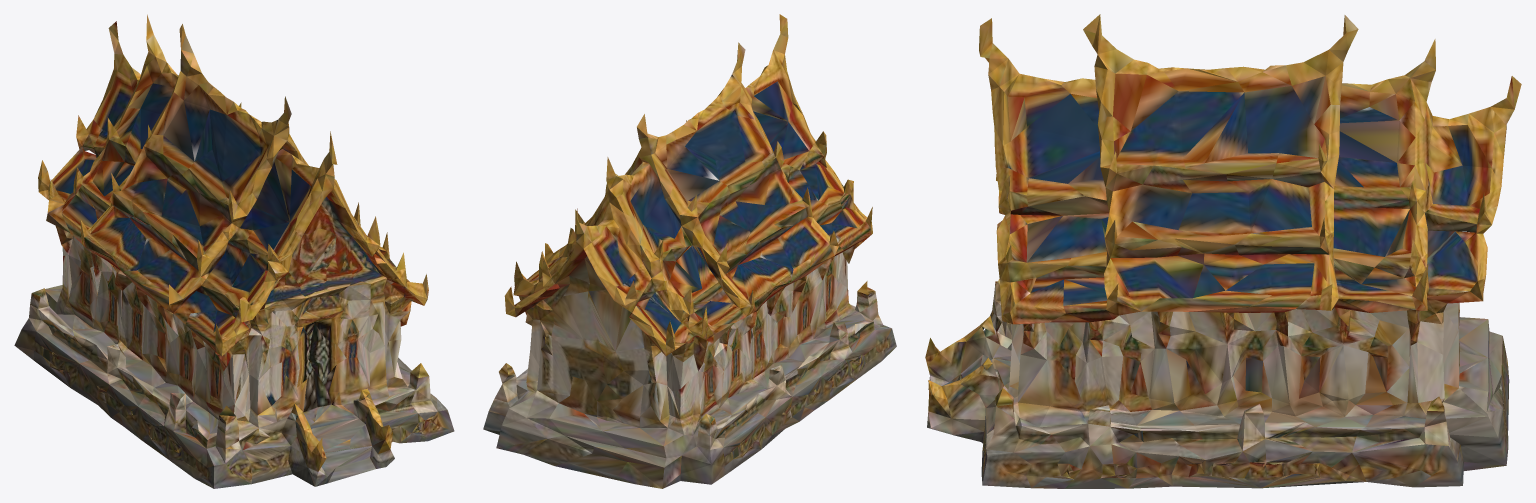
File: thai_temple_low.glb
3 renders of one model, left to right at view 1: azimuth 30°, elevation 25°; view 2: azimuth 150°, elevation 25°; view 3: azimuth 270°, elevation 25°, orthographic. The views are drawn at different scales.
Visible parts, largest first — view 1: m; view 2: m; view 3: m.
Boxes of the visible parts, x1=… form: m: x1=14, y1=14, x2=454, y2=488; m: x1=483, y1=14, x2=896, y2=488; m: x1=925, y1=14, x2=1521, y2=488.
Size of the model in its own units: 12.22 by 16 by 21.41.
Materials: 1 (1 with a texture image).
